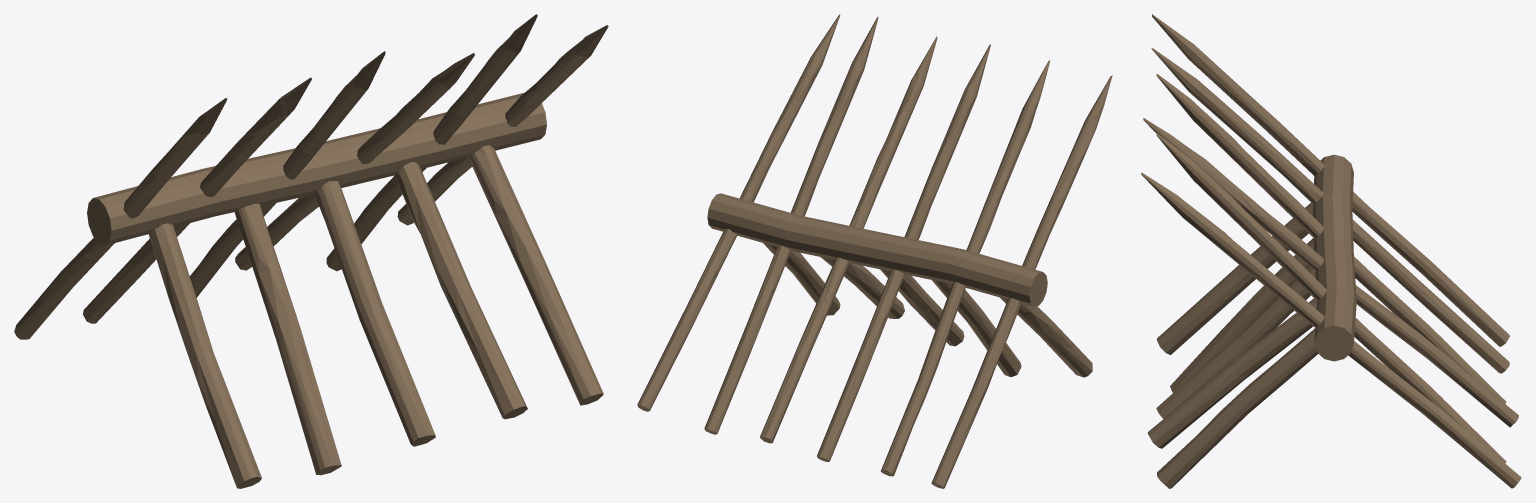
File: siege_spike_e.FBX
3 renders of one model, left to right at view 1: azimuth 30°, elevation 25°; view 2: azimuth 150°, elevation 25°; view 3: azimuth 270°, elevation 25°, orthographic. The views are drawn at different scales.
Visible parts, largest first — view 1: siege_spike_e; view 2: siege_spike_e; view 3: siege_spike_e.
Boxes of the visible parts, x1,y1,x2,y2 form: siege_spike_e: (14, 14, 608, 488); siege_spike_e: (637, 14, 1112, 488); siege_spike_e: (1141, 14, 1521, 488).
Bounding box in the file's own units: 1.7 × 1.59 × 1.59.
